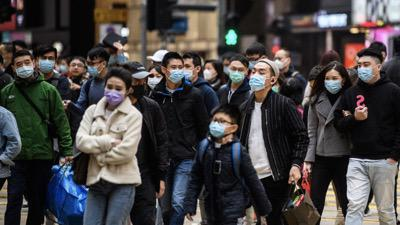with_mask: (103, 82, 126, 106), (248, 67, 270, 92), (208, 116, 229, 138), (356, 60, 376, 83), (14, 58, 34, 80), (166, 63, 184, 84), (324, 75, 342, 95), (131, 79, 148, 99), (38, 54, 55, 74), (229, 65, 246, 83), (146, 72, 163, 90), (86, 60, 100, 77), (273, 55, 287, 72), (245, 56, 260, 71), (183, 62, 195, 80), (202, 66, 216, 81), (59, 62, 69, 74)
without_mask: (69, 61, 84, 76)
